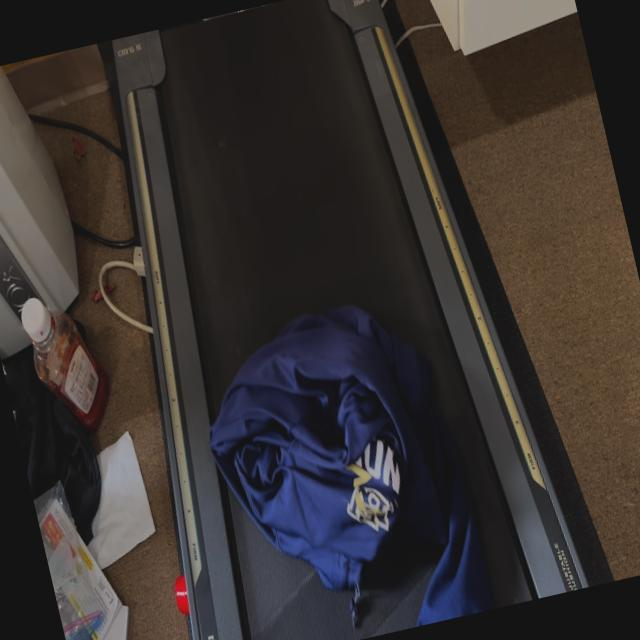Trash: (199, 292, 508, 635)
